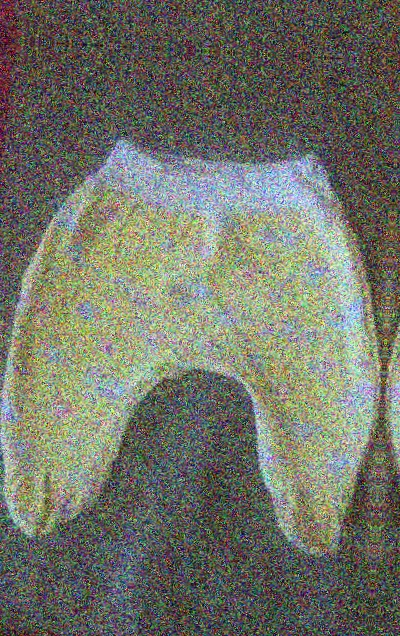Pants: (0, 128, 380, 575), (390, 150, 400, 597)
